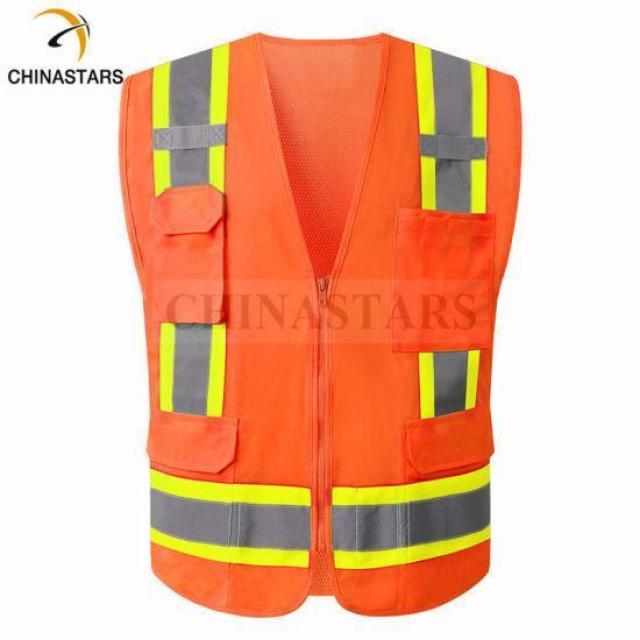Vest: (110, 32, 525, 618)
